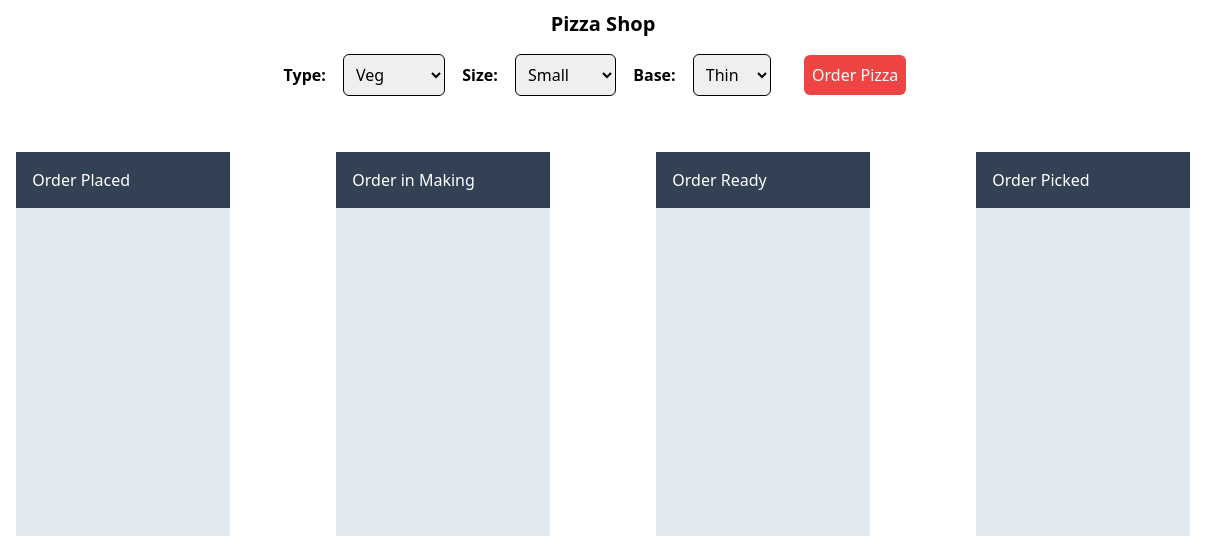
Should add a new Order
Click the button "Order Pizza" at [855, 75], box [804,55,906,95]
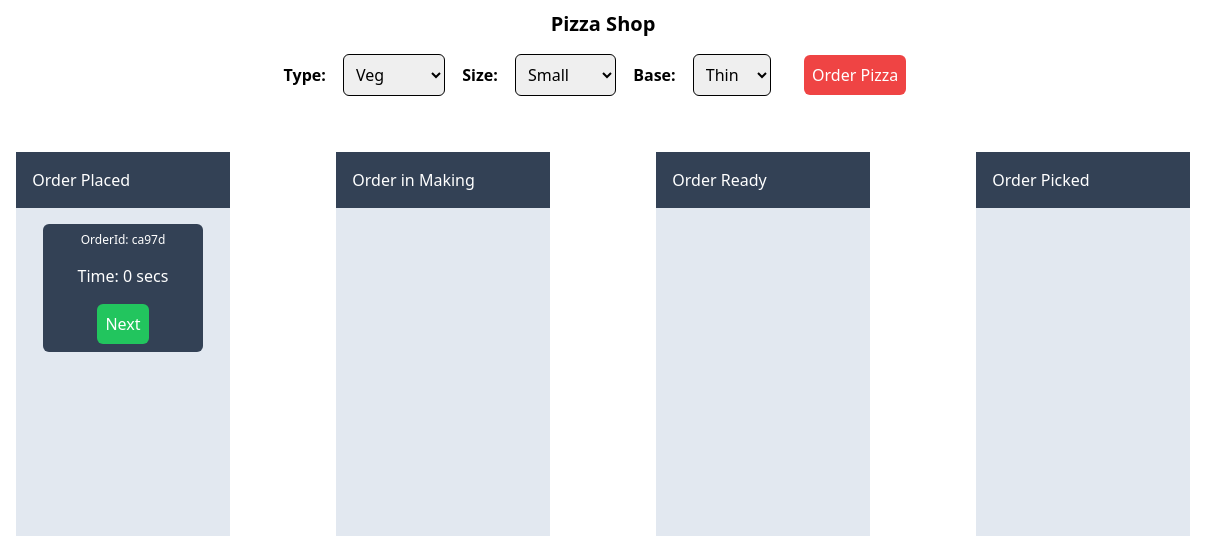
Check: the element with test id "order-tile" is shown, box [43,224,203,352]
